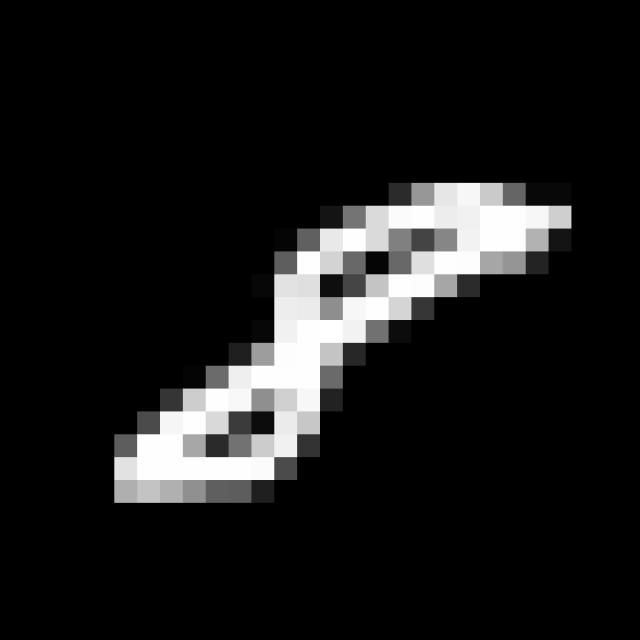eight -8-: (114, 183, 572, 526)
